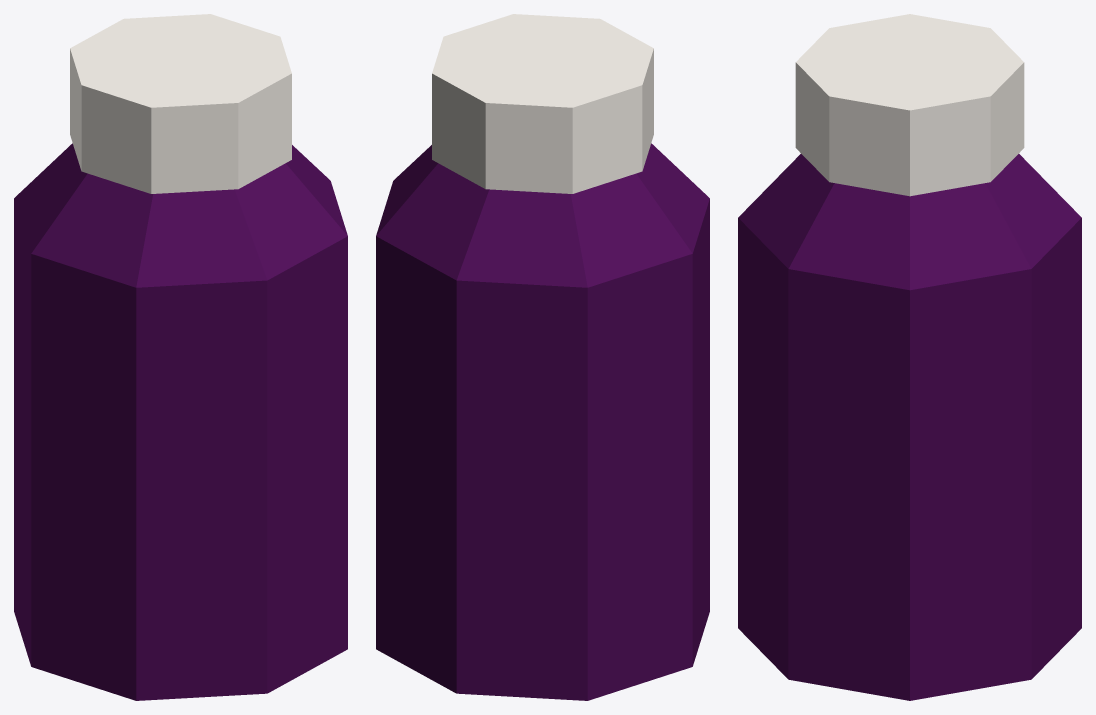
File: Produce_Bottle.fbx
3 views of the same model, side by side, from view 1: azimuth 30°, elevation 25°; view 2: azimuth 150°, elevation 25°; view 3: azimuth 270°, elevation 25° (orthographic).
Visible parts, largest first — view 1: Cylinder001; view 2: Cylinder001; view 3: Cylinder001.
Boxes of the visible parts, x1,y1,x2,y2 form: Cylinder001: (14, 14, 347, 700); Cylinder001: (376, 14, 709, 700); Cylinder001: (738, 14, 1081, 700).
Bounding box in the file's own units: 5.93 × 10.78 × 5.93.
